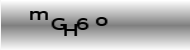6: (77, 17, 88, 30)
G: (50, 17, 66, 30)
H: (63, 23, 78, 37)
m: (29, 10, 49, 21)
o: (95, 16, 108, 26)
